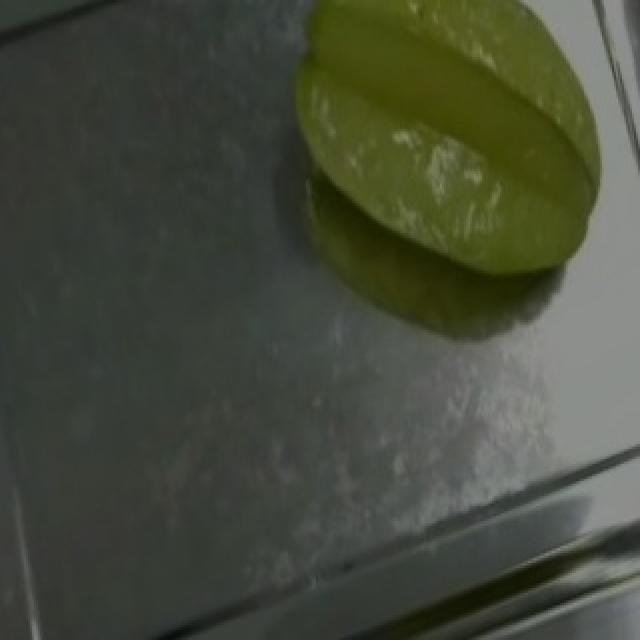fruit: (256, 0, 634, 325)
